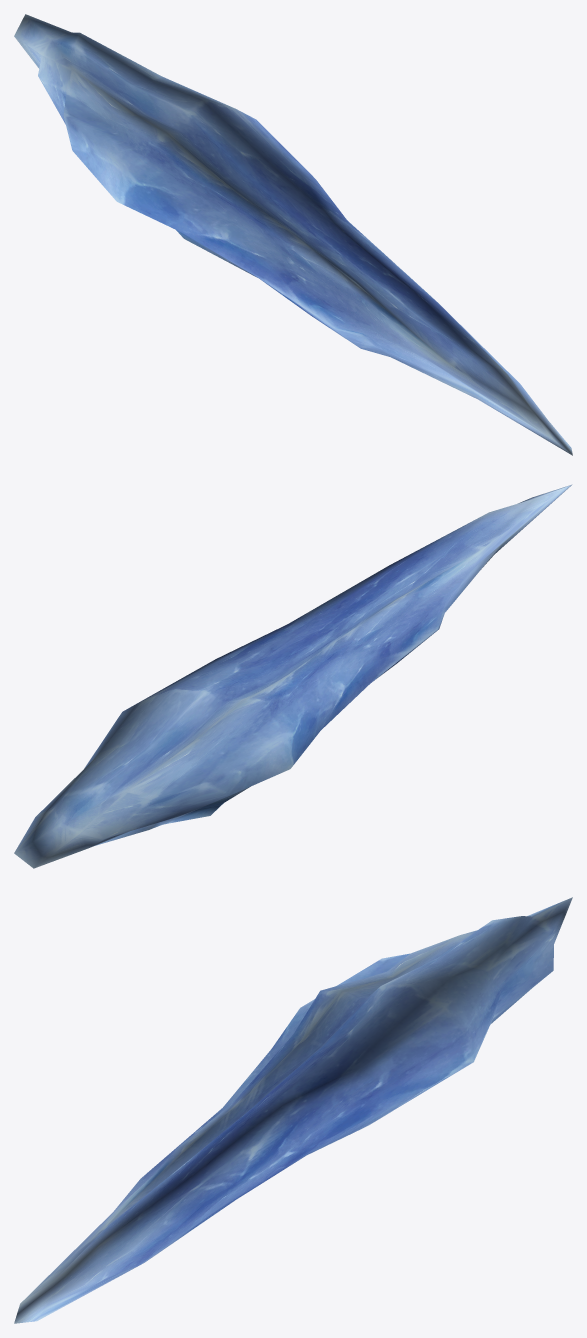
The model's file is frostbolt.obj.
The picture shows the model from 3 angles, top to bottom: view 1: azimuth 30°, elevation 25°; view 2: azimuth 150°, elevation 25°; view 3: azimuth 330°, elevation 25°; orthographic projection. The views are drawn at different scales.
Parts seen in each view (by area): view 1: spells/cfx_mage_frostbolt_missile.m2_Geoset_000; view 2: spells/cfx_mage_frostbolt_missile.m2_Geoset_000; view 3: spells/cfx_mage_frostbolt_missile.m2_Geoset_000.
Part boxes in pixels (left/top/right/bottom): spells/cfx_mage_frostbolt_missile.m2_Geoset_000: left=14, top=14, right=572, bottom=455; spells/cfx_mage_frostbolt_missile.m2_Geoset_000: left=14, top=484, right=572, bottom=868; spells/cfx_mage_frostbolt_missile.m2_Geoset_000: left=14, top=897, right=572, bottom=1323.
Size of the model in its own units: 0.5172 by 0.3818 by 3.05.
Materials: 1 (1 with a texture image).
